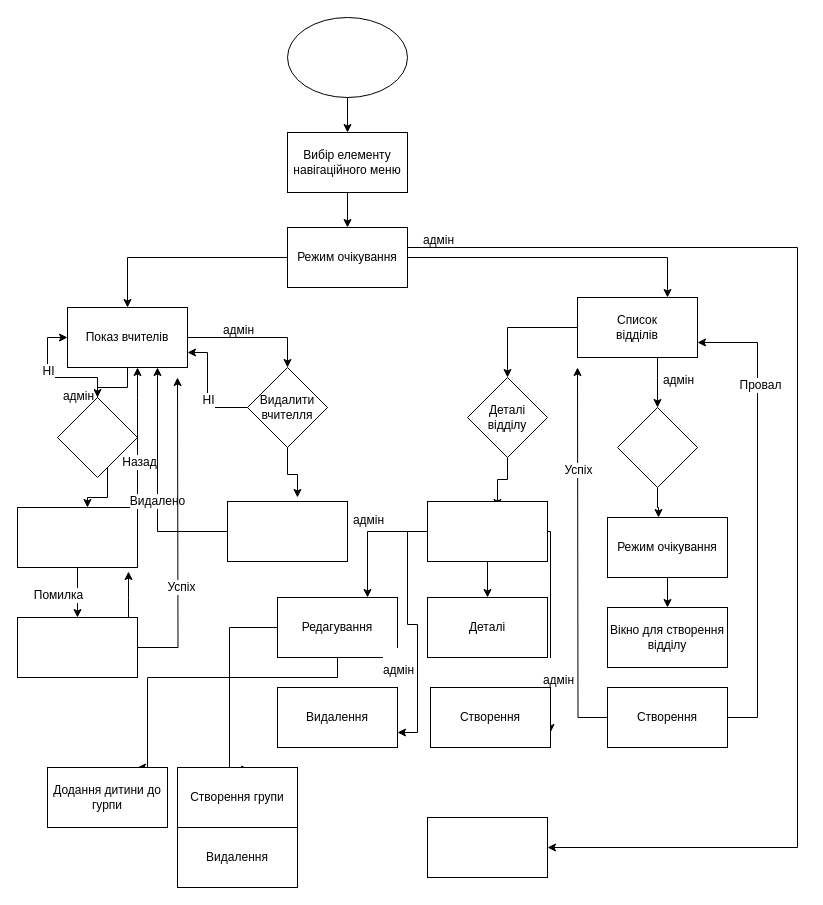
Image size: 823x905. Some labels were removed from this diagram. Here are the shapes that lost their labels. From the top down, the centre of each, then its label:
point (347, 57): Запуск сайту
point (97, 437): Створити вчителя
point (657, 447): Додати відділ
point (77, 537): Сторінка для створення вчителля
point (287, 531): Видалення вчителля
point (487, 531): Показ секцій
point (77, 647): Створення вчителля
point (487, 847): Інформаційна сторінка (фінанси, персонал, учні)
